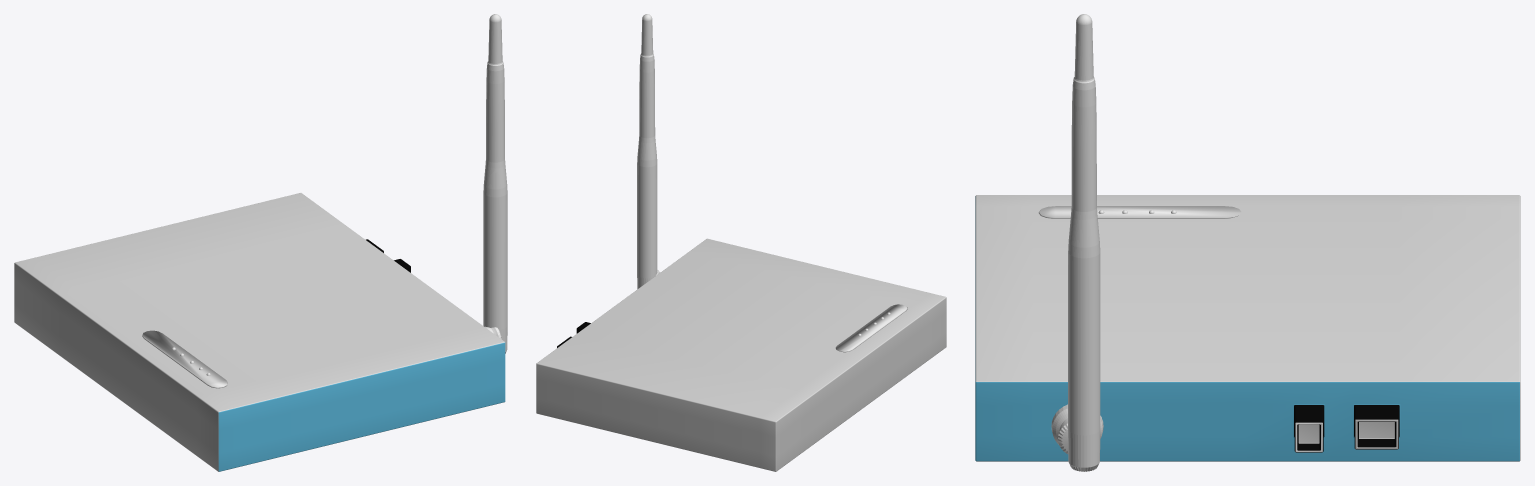
File: endpointFinal.fbx
The picture shows the model from 3 angles, left to right: view 1: azimuth 30°, elevation 25°; view 2: azimuth 150°, elevation 25°; view 3: azimuth 270°, elevation 25°; orthographic projection. The views are drawn at different scales.
Visible parts, largest first — view 1: Plane.040, Circle.006, Plane.001; view 2: Plane.040, Circle.006, Plane.001; view 3: Plane.040, Circle.006, Plane.001.
Part boxes in pixels (x1,y1,x2,y2): Plane.040: (14, 193, 505, 471); Circle.006: (483, 14, 507, 353); Plane.001: (142, 330, 227, 388); Plane.040: (536, 238, 946, 471); Circle.006: (637, 14, 660, 289); Plane.001: (835, 304, 907, 352); Plane.040: (975, 195, 1520, 461); Circle.006: (1051, 14, 1103, 471); Plane.001: (1038, 206, 1241, 218).
Bounding box in the file's own units: 29.3 × 29.9 × 31.62.
